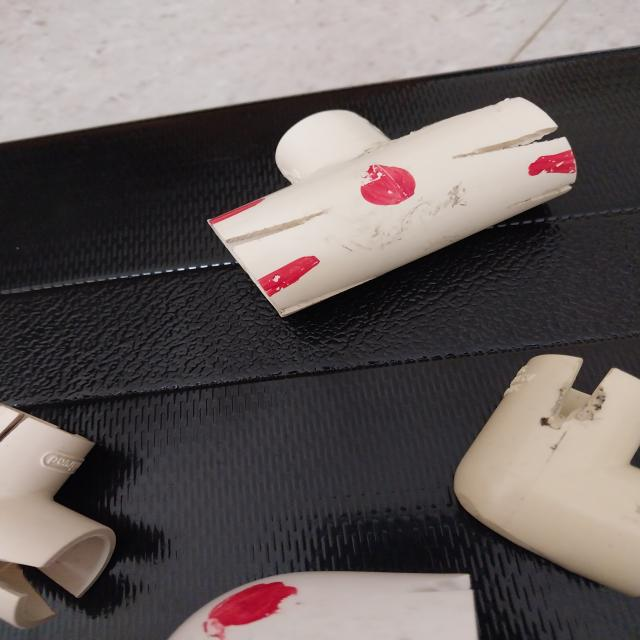Defective: (225, 212, 328, 248), (252, 257, 322, 297), (219, 591, 291, 626), (364, 162, 419, 206), (521, 149, 574, 186)
L Joint: (457, 352, 636, 602), (0, 406, 115, 622), (180, 568, 481, 640)
T Joint: (203, 90, 602, 321)
